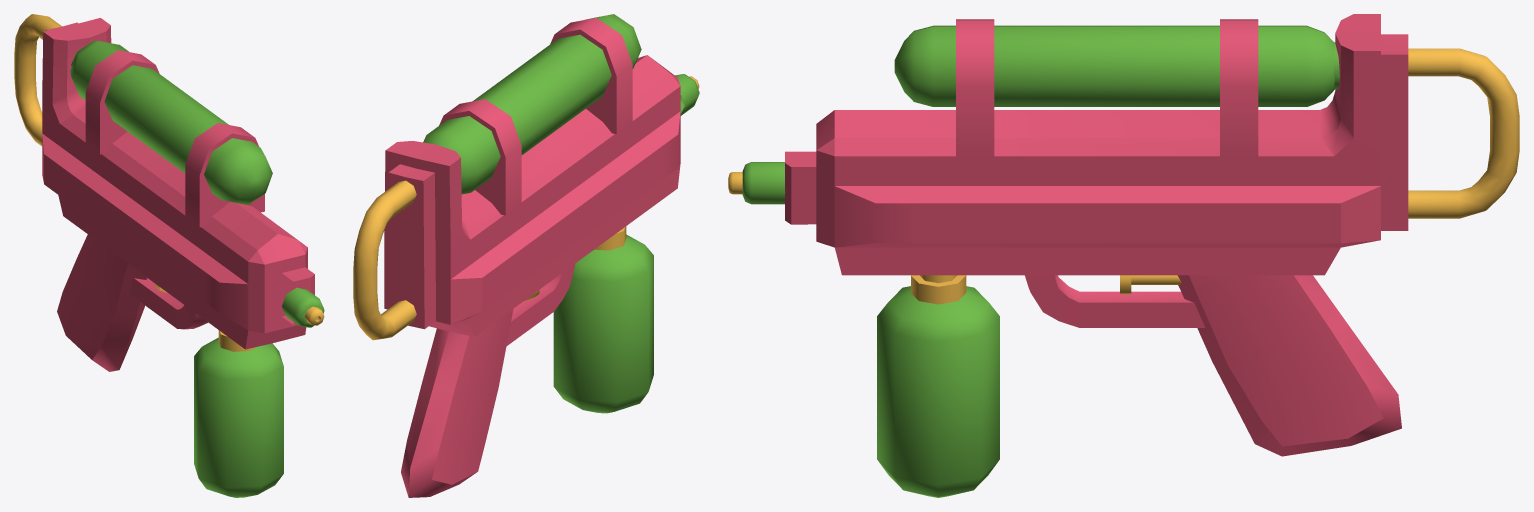
Rendered from Watergun_03.fbx.
The picture shows the model from 3 angles, left to right: view 1: azimuth 30°, elevation 25°; view 2: azimuth 150°, elevation 25°; view 3: azimuth 270°, elevation 25°; orthographic projection. The views are drawn at different scales.
Visible parts, largest first — view 1: Watergun_03; view 2: Watergun_03; view 3: Watergun_03.
Part boxes in pixels (bbox=[...]): Watergun_03: bbox=[14, 14, 324, 497]; Watergun_03: bbox=[353, 14, 699, 497]; Watergun_03: bbox=[728, 14, 1519, 497].
Size of the model in its own units: 0.0731 by 0.2889 by 0.4402.
